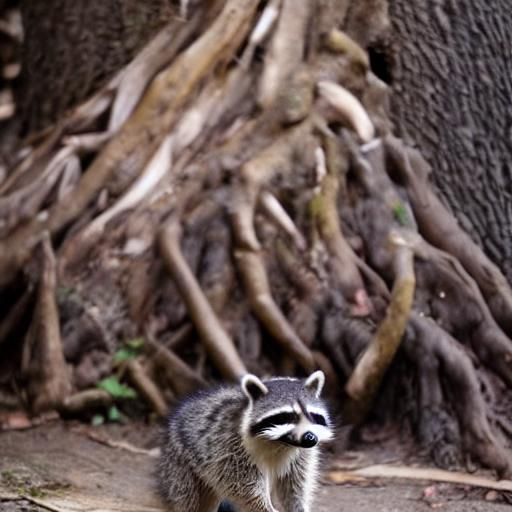raccoon: (147, 363, 342, 512)
